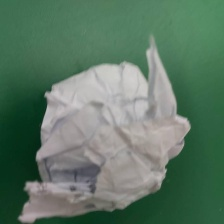Paper: (22, 35, 191, 222)
